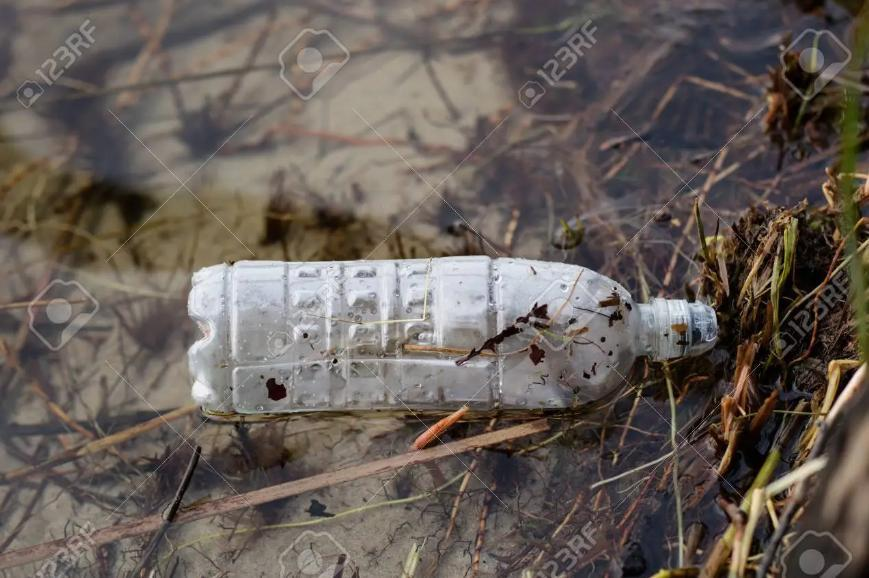bottle: (165, 224, 736, 454)
